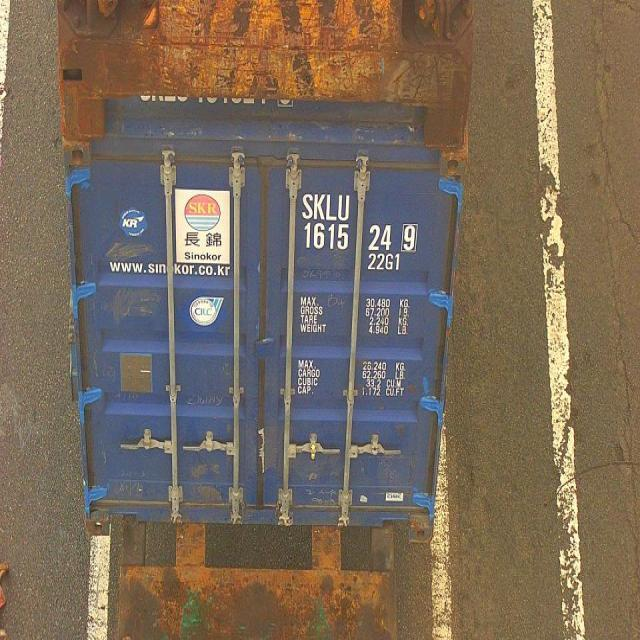ISO: (366, 252, 402, 271)
container_number: (305, 194, 423, 250)
